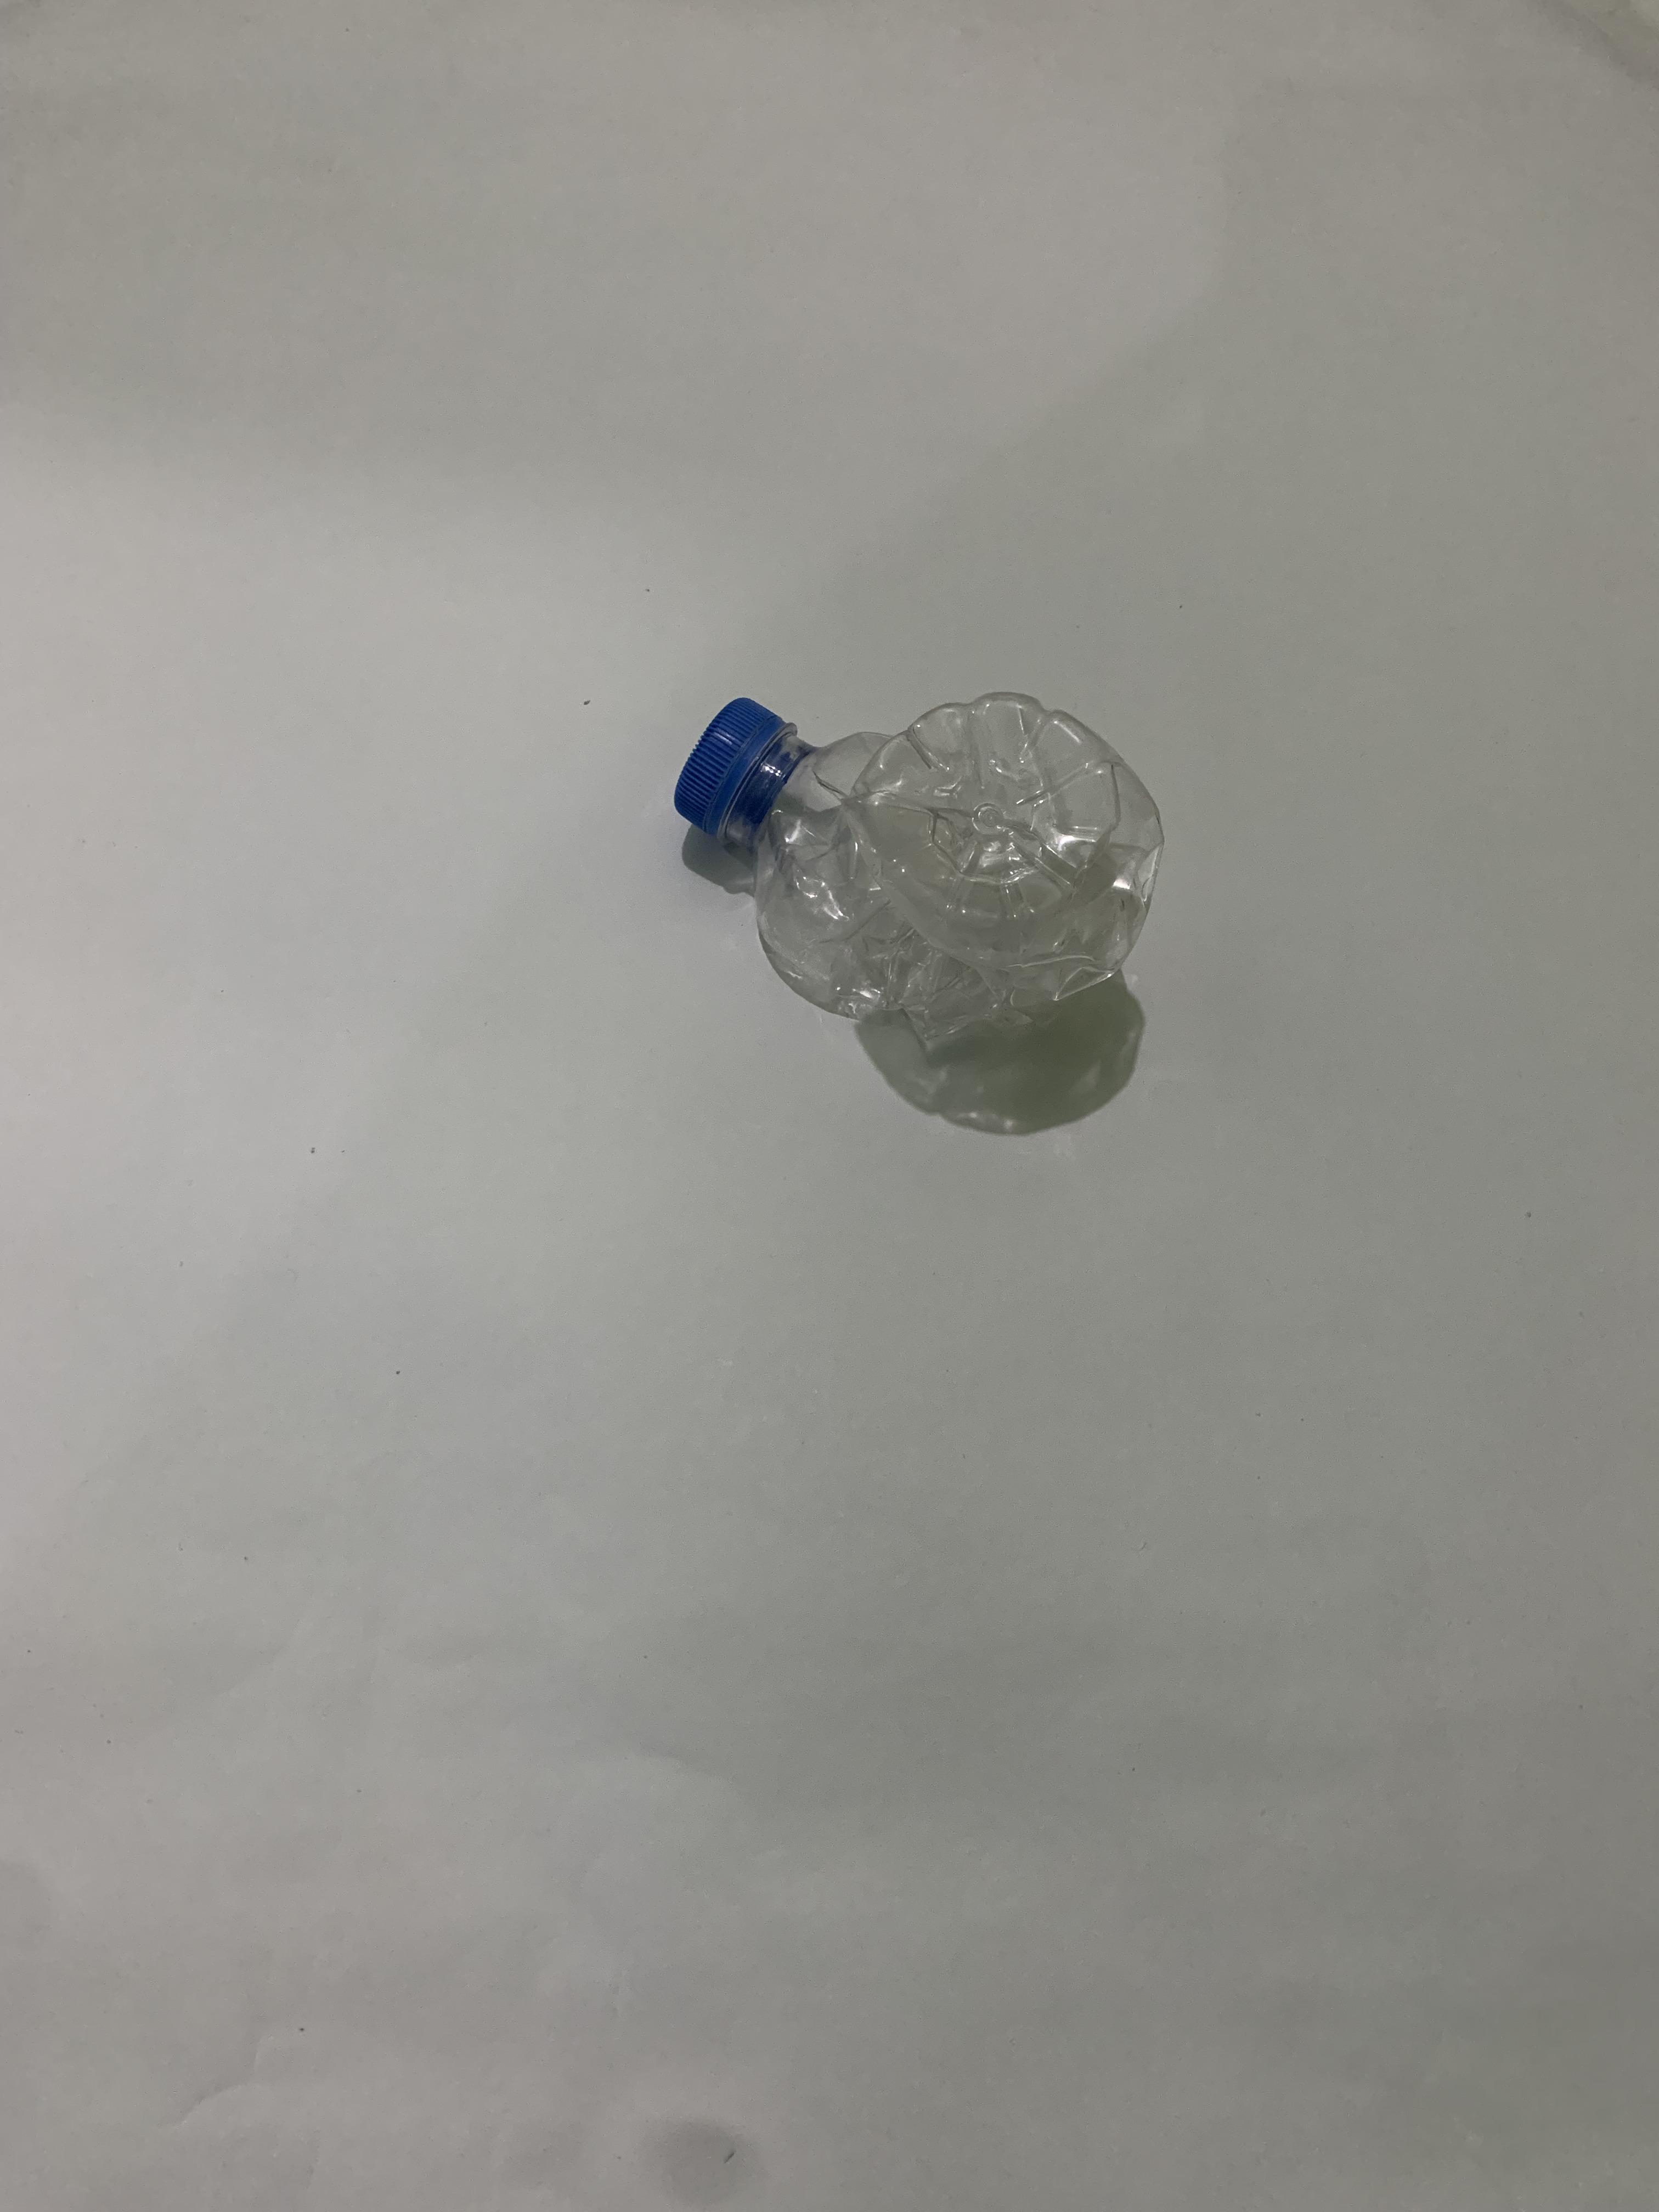bottle: (0, 681, 272, 1080)
